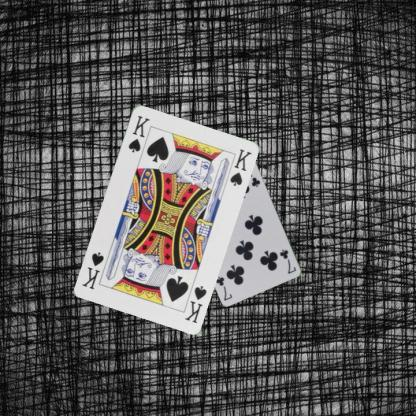7c: (278, 247, 298, 275)
Ks: (125, 112, 151, 154), (182, 282, 208, 324)
